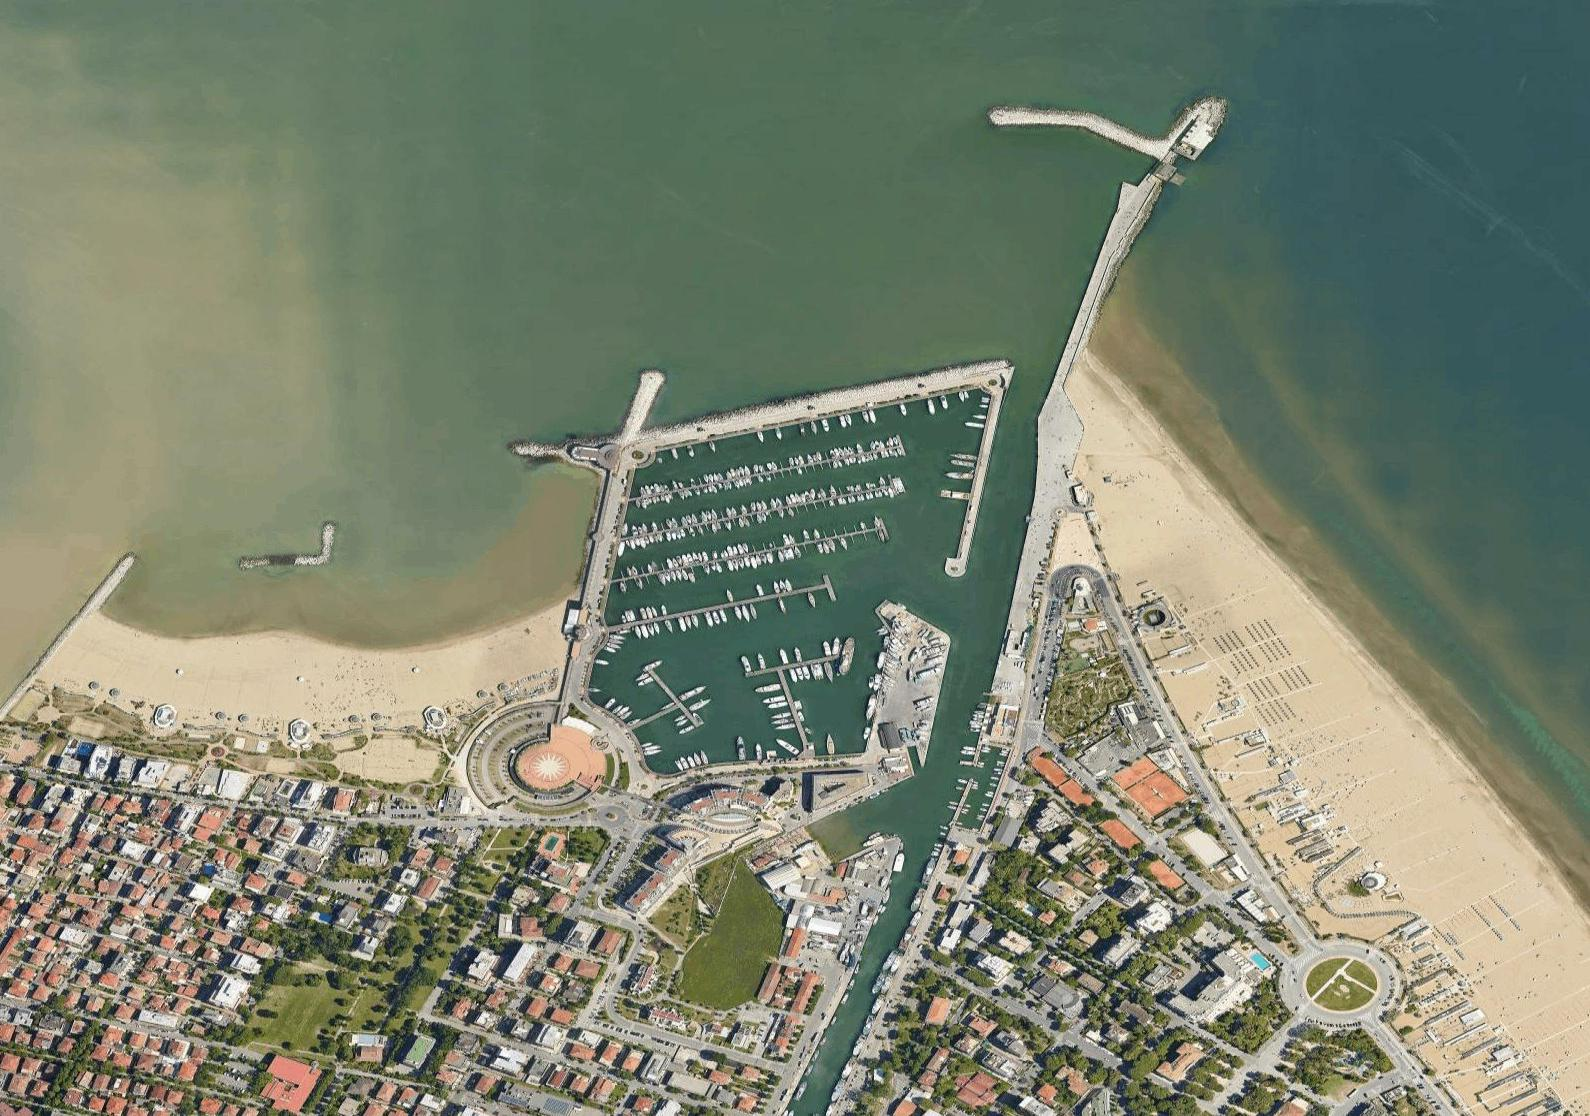harbor: (498, 300, 1025, 823)
